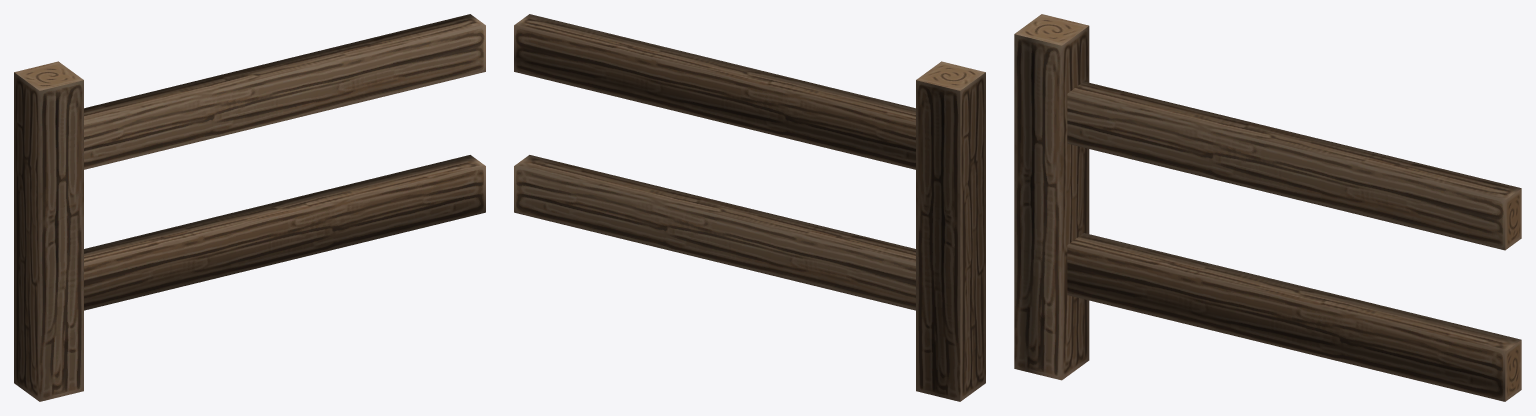
Rendered from SM_Fence_01_A.glb.
3 views of the same model, side by side, from view 1: azimuth 30°, elevation 25°; view 2: azimuth 150°, elevation 25°; view 3: azimuth 330°, elevation 25° (orthographic). The views are drawn at different scales.
Visible parts, largest first — view 1: SM_Fence_01_A; view 2: SM_Fence_01_A; view 3: SM_Fence_01_A.
Part boxes in pixels (<box>): SM_Fence_01_A: <box>14,14,485,401</box>; SM_Fence_01_A: <box>514,14,985,401</box>; SM_Fence_01_A: <box>1014,14,1521,401</box>.
Bounding box in the file's own units: 1.06 × 0.6969 × 0.104.
1 material, 1 textured.
